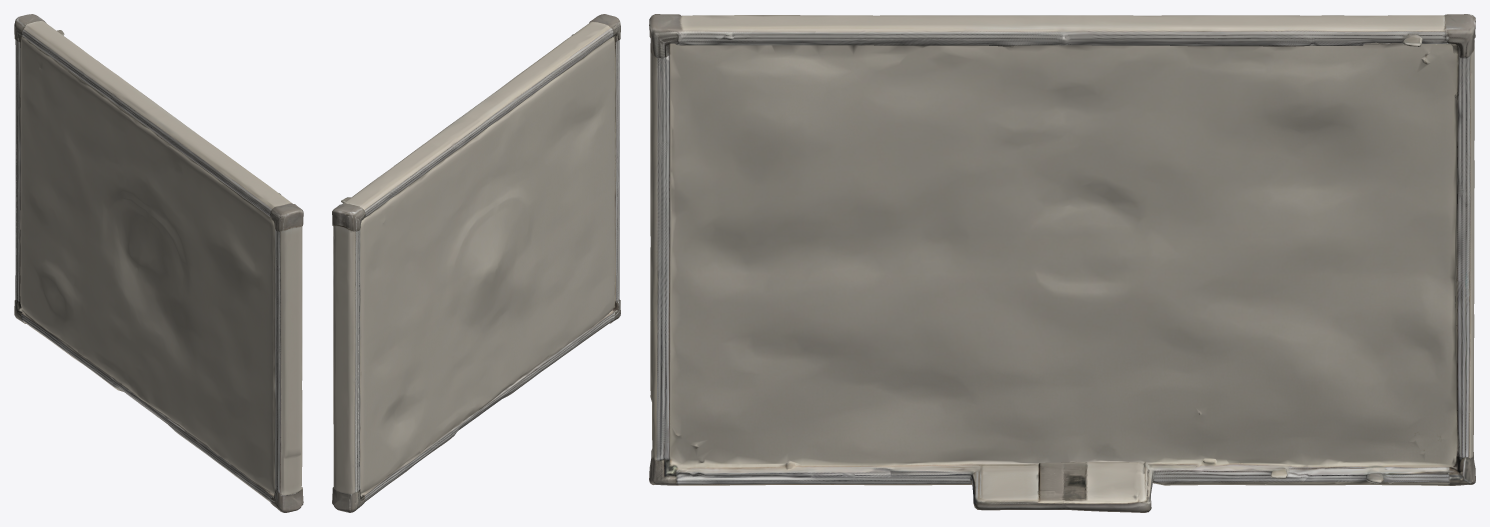
The picture shows the model from 3 angles, left to right: view 1: azimuth 30°, elevation 25°; view 2: azimuth 150°, elevation 25°; view 3: azimuth 270°, elevation 25°; orthographic projection. The views are drawn at different scales.
Visible parts, largest first — view 1: tripo_node_24da3e1f-68ab-4cd7-b2e0-8161c232e870; view 2: tripo_node_24da3e1f-68ab-4cd7-b2e0-8161c232e870; view 3: tripo_node_24da3e1f-68ab-4cd7-b2e0-8161c232e870.
Part boxes in pixels (bbox=[...]): tripo_node_24da3e1f-68ab-4cd7-b2e0-8161c232e870: bbox=[14, 14, 303, 512]; tripo_node_24da3e1f-68ab-4cd7-b2e0-8161c232e870: bbox=[332, 14, 620, 512]; tripo_node_24da3e1f-68ab-4cd7-b2e0-8161c232e870: bbox=[649, 14, 1475, 512].
Size of the model in its own units: 0.1624 by 0.6177 by 1.
Materials: 1 (1 with a texture image).
